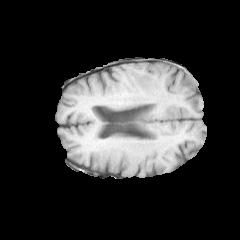glioma: (124, 62, 163, 100)
